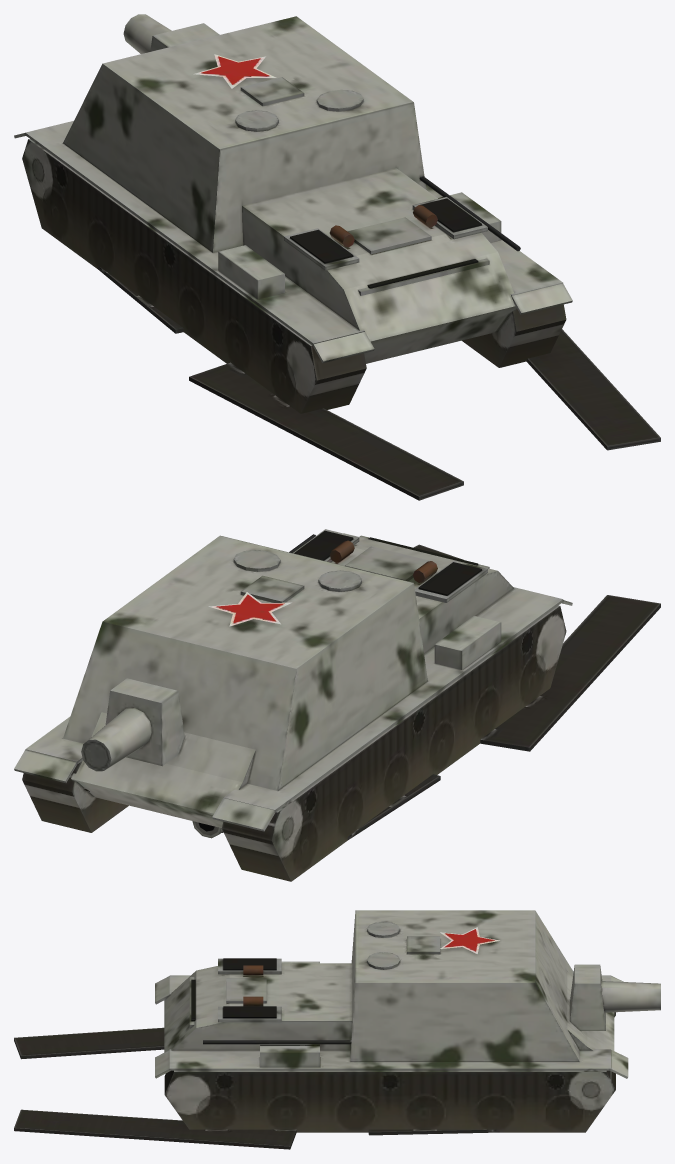
File: su152_winter.glb
3 renders of one model, top to bottom at view 1: azimuth 30°, elevation 25°; view 2: azimuth 150°, elevation 25°; view 3: azimuth 270°, elevation 25°, orthographic. The views are drawn at different scales.
Visible parts, largest first — view 1: hull_ok, hull_trackL, hull_trackR; view 2: hull_ok, hull_trackL; view 3: hull_ok, hull_trackR, hull_trackL.
Part boxes in pixels (x1,y1,x2,y2): hull_ok: [14, 14, 572, 413]; hull_trackL: [98, 266, 463, 500]; hull_trackR: [526, 329, 660, 450]; hull_ok: [14, 529, 572, 881]; hull_trackL: [347, 595, 660, 840]; hull_ok: [155, 910, 660, 1132]; hull_trackR: [14, 1109, 499, 1149]; hull_trackL: [14, 1027, 164, 1059].
Size of the model in its own units: 4.51 by 2.7 by 9.68.
12 materials, 12 textured.
